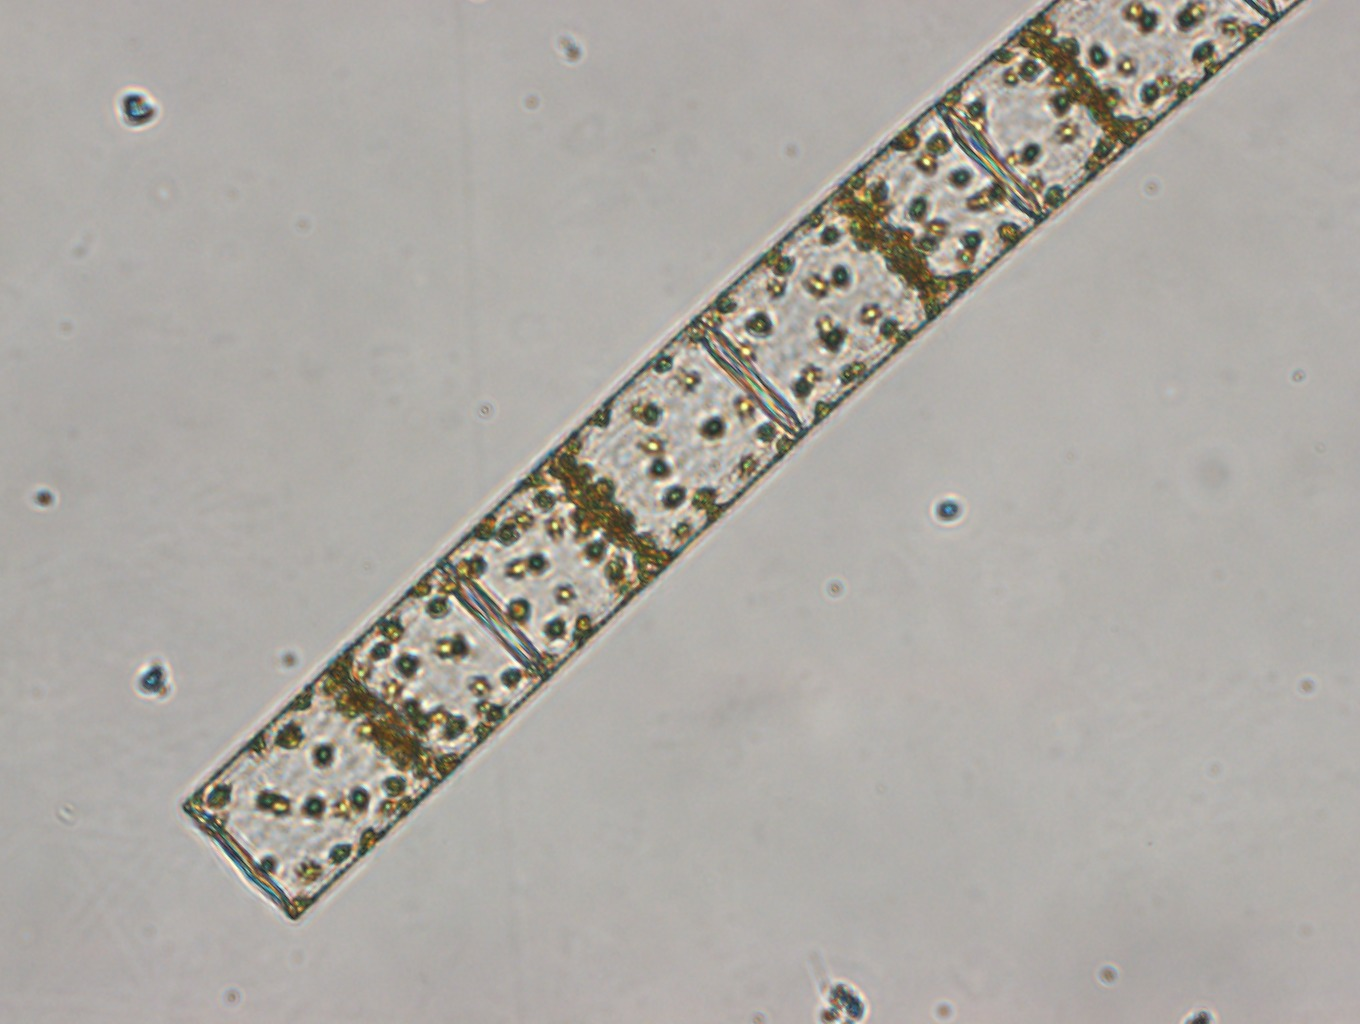guinardia flaccida: (181, 1, 1301, 919)
